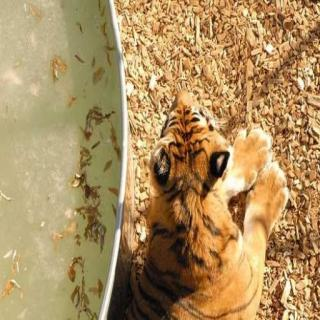Tiger: (122, 90, 309, 320)
